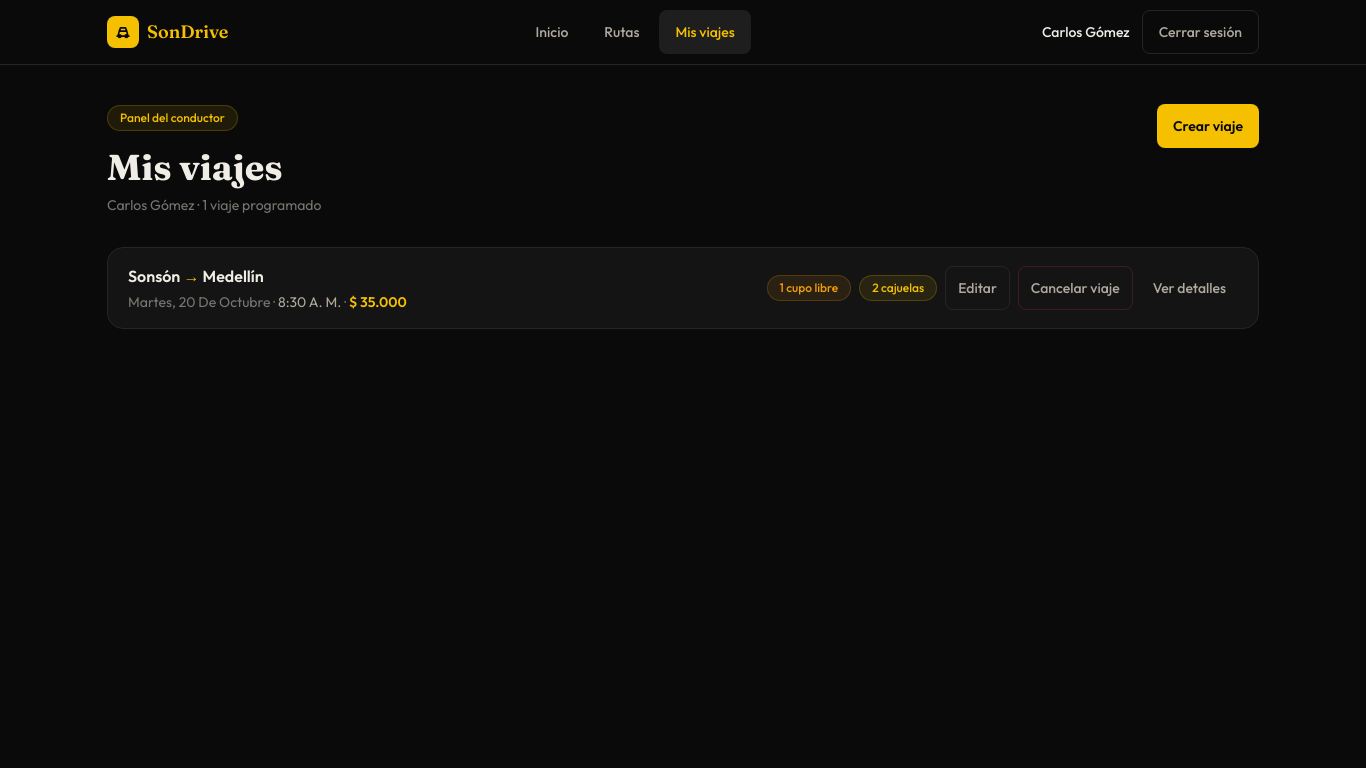
Detalles del viaje › muestra el vehículo, los puestos y los pasajeros registrados
Click the button "Ver detalles" at (1189, 288), box [1141,266,1238,310]
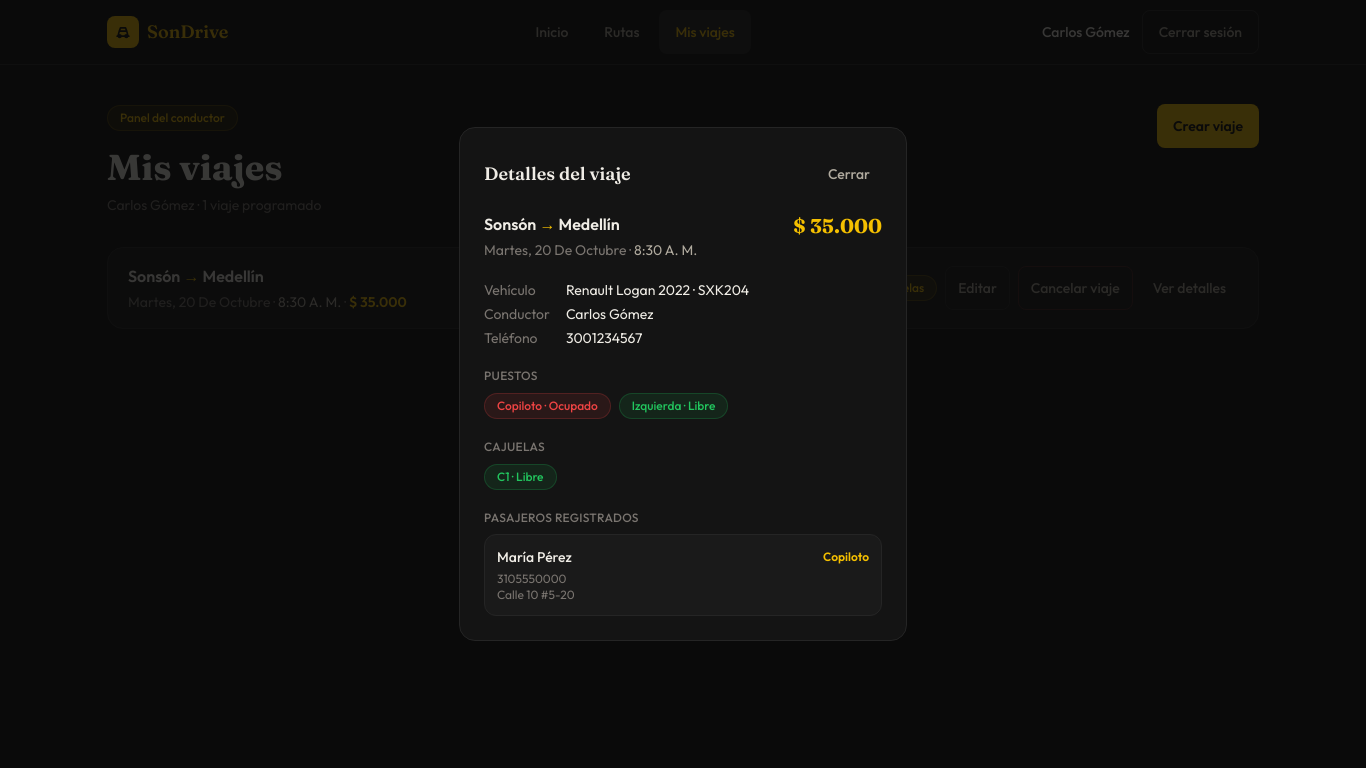
Check: the text "Renault Logan 2022 · SXK204" is shown, box [566,281,749,299]
Check: the text "3001234567" is shown, box [566,329,642,347]
Check: the text "Copiloto · Ocupado" is shown, box [484,393,611,419]
Click the button "Cerrar" at (849, 174), box [816,152,882,196]
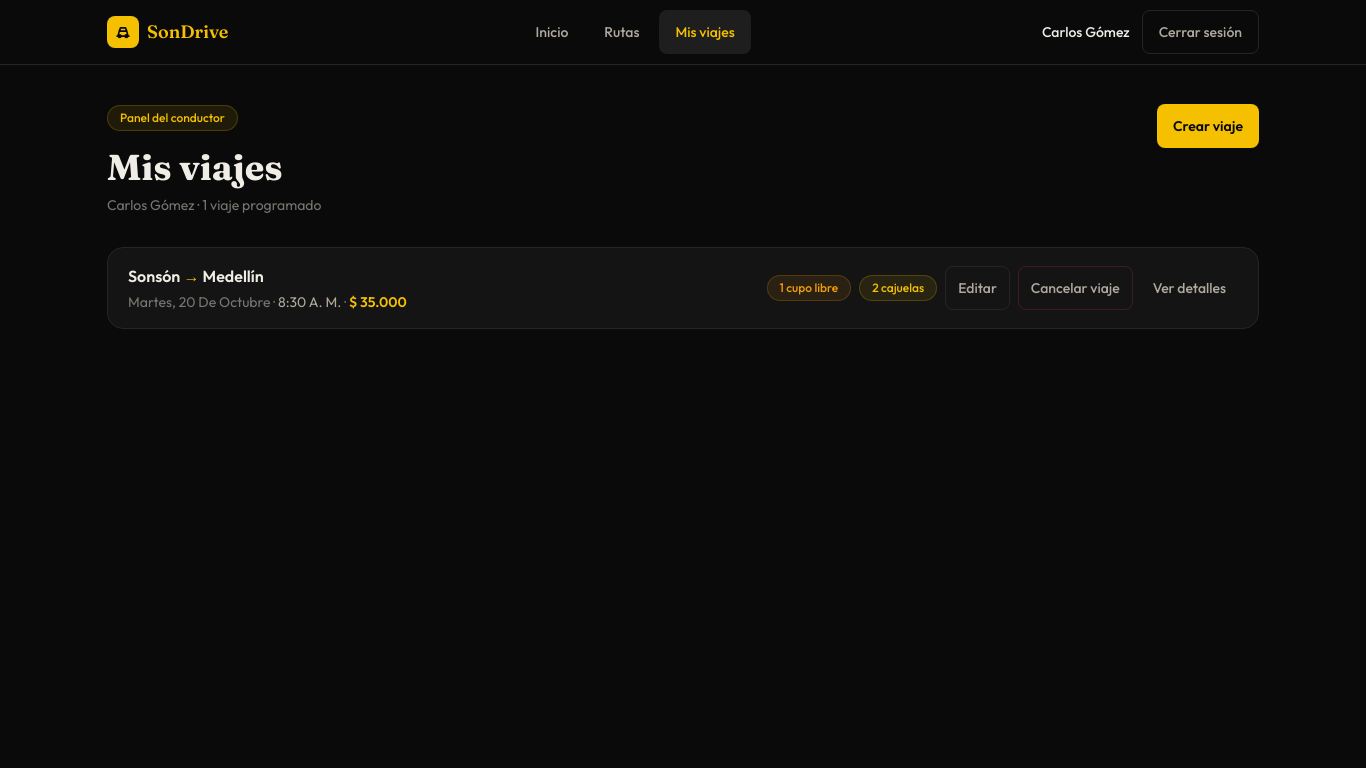
Check: the dialog is gone
